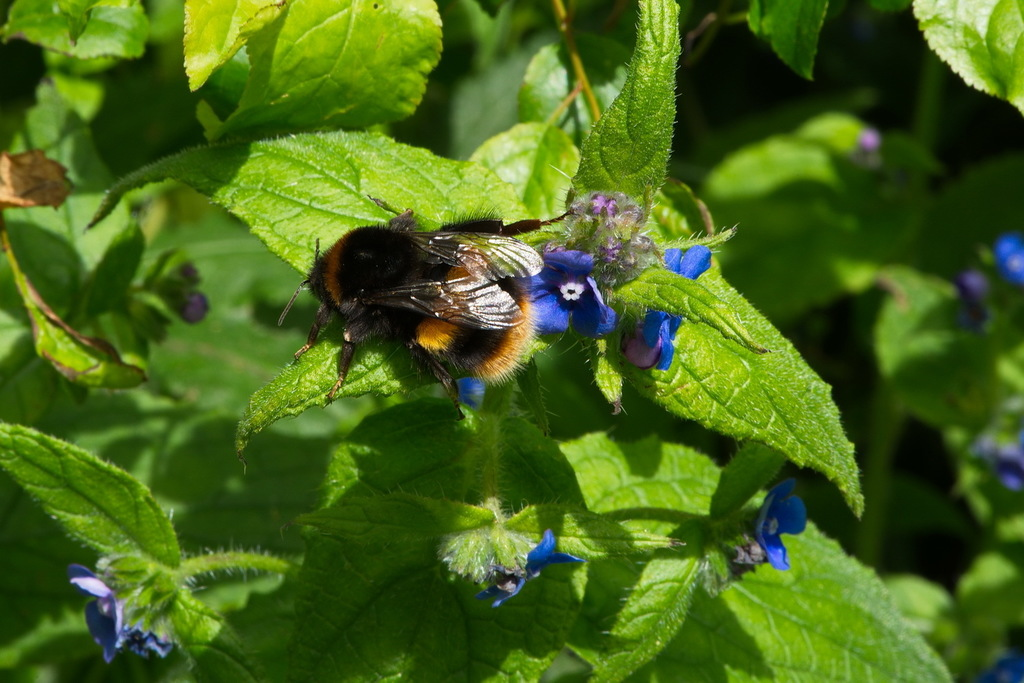bumblebee: (278, 208, 576, 420)
